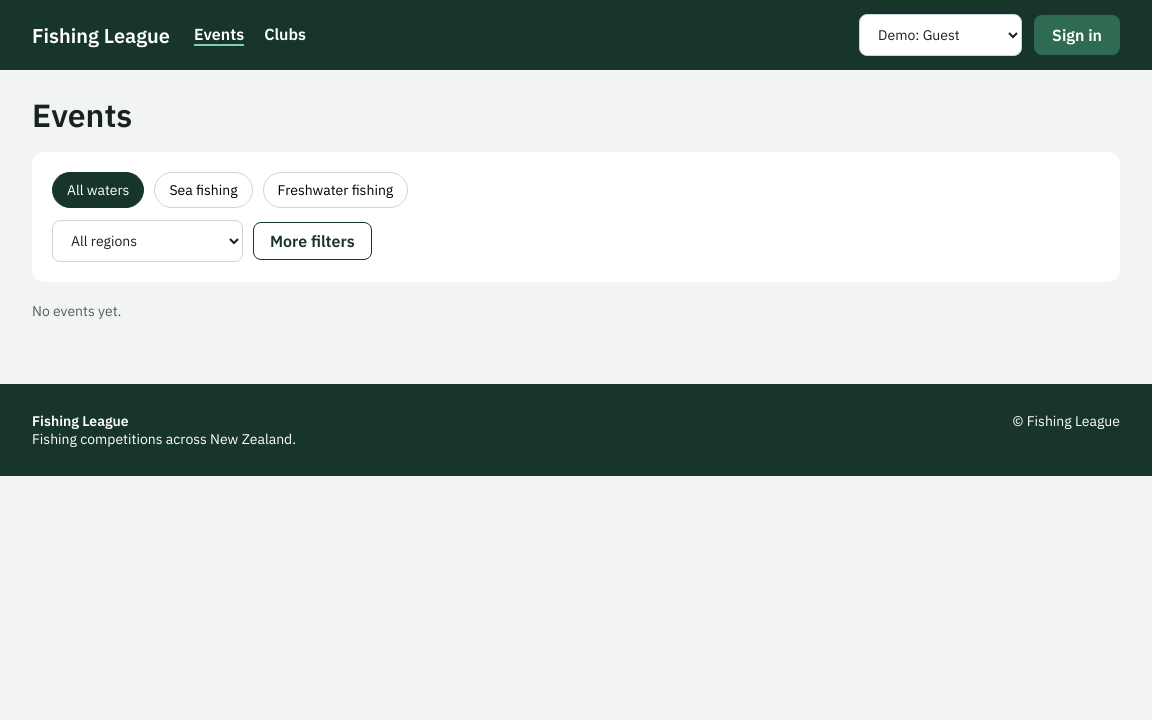
Test case: sign-in sheet on phones › explains and disables Google inside the Messenger/Facebook browser
Click the button "Sign in" at (1077, 35), box x1=1034 y1=15 x2=1120 y2=55
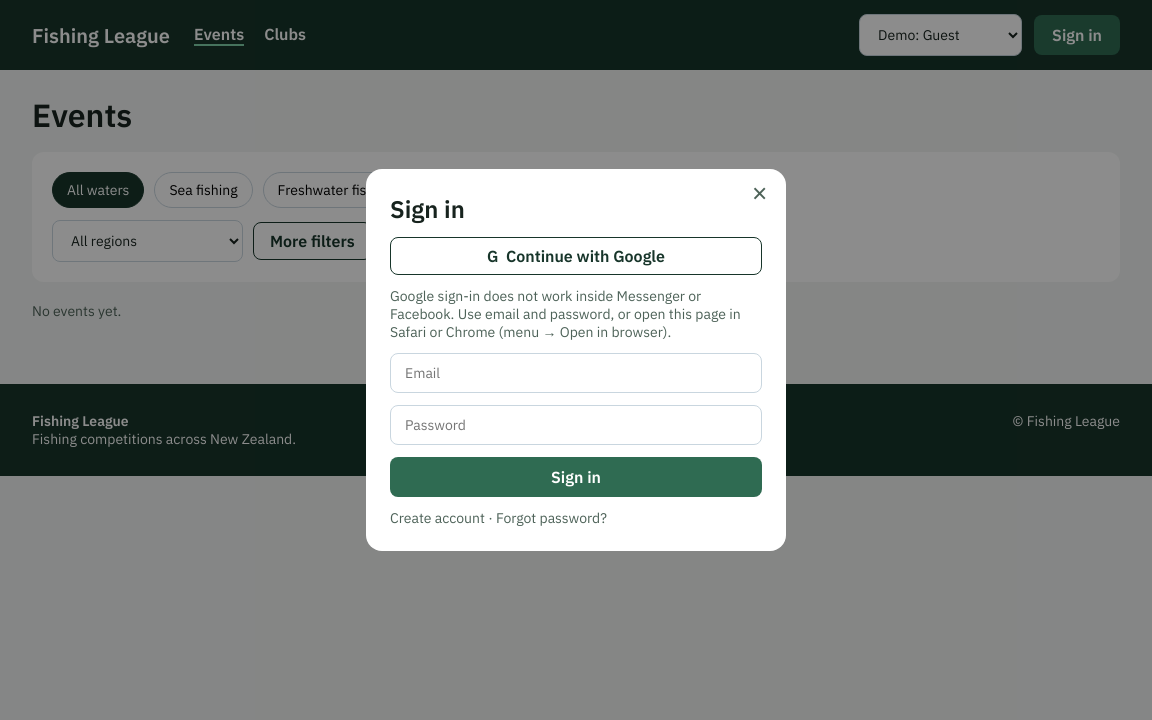
Result: the text "does not work inside Messenger" is shown at x1=390 y1=287 x2=741 y2=341
Result: the button "G Continue with Google" is disabled at x1=390 y1=237 x2=762 y2=275
Result: the field labelled "Email" is enabled at x1=390 y1=353 x2=762 y2=393
